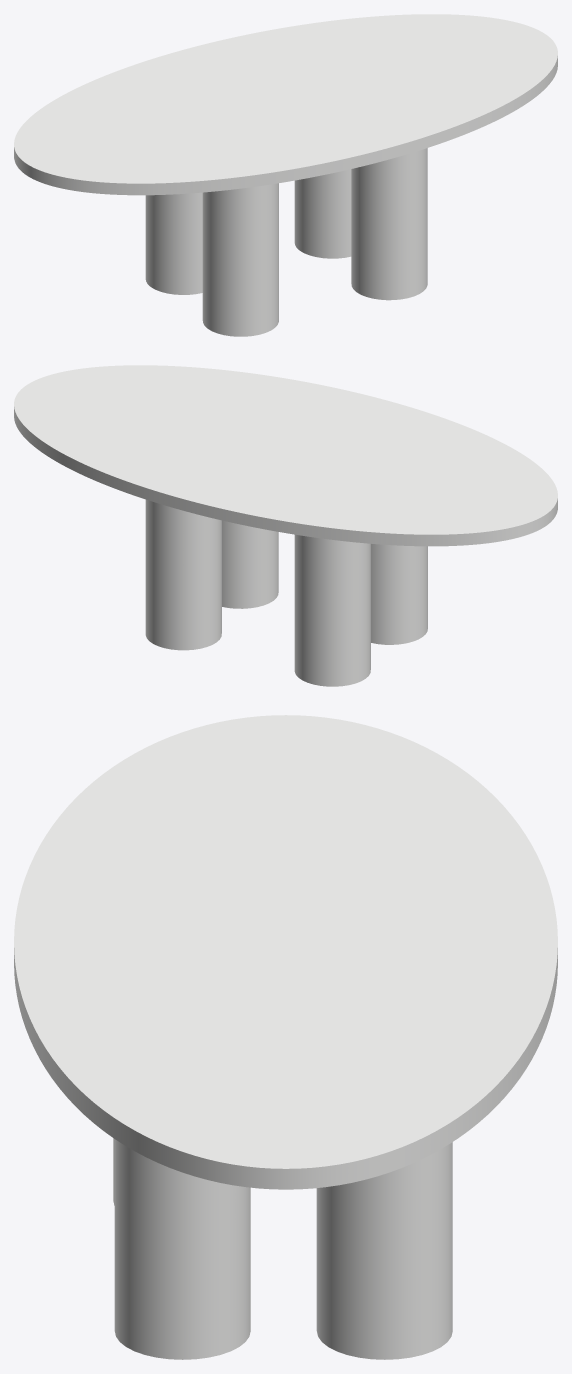
Rendered from purewhite_ellips_standard_grove.glb.
3 views of the same model, one above another, from view 1: azimuth 30°, elevation 25°; view 2: azimuth 150°, elevation 25°; view 3: azimuth 270°, elevation 25° (orthographic). The views are drawn at different scales.
Visible parts, largest first — view 1: standard_ellips, grove; view 2: standard_ellips, grove; view 3: standard_ellips, grove.
Part boxes in pixels (bbox=[...]): standard_ellips: bbox=[14, 14, 557, 195]; grove: bbox=[145, 148, 427, 336]; standard_ellips: bbox=[14, 365, 557, 546]; grove: bbox=[145, 499, 427, 686]; standard_ellips: bbox=[14, 715, 557, 1189]; grove: bbox=[113, 1138, 452, 1359].
Bounding box in the file's own units: 7.5 × 2.5 × 3.8.
Materials: 1 (1 with a texture image).
